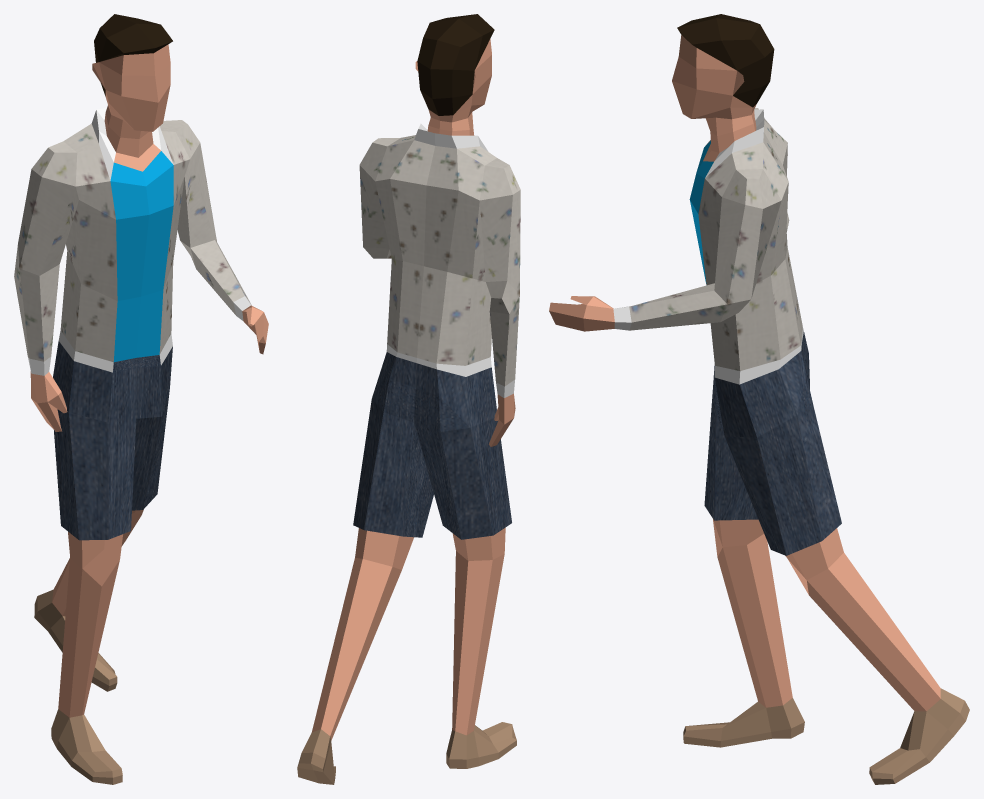
Rendered from SpringManA.008.glb.
3 views of the same model, side by side, from view 1: azimuth 30°, elevation 25°; view 2: azimuth 150°, elevation 25°; view 3: azimuth 270°, elevation 25° (orthographic). The views are drawn at different scales.
Parts seen in each view (by area): view 1: SpringManA.008; view 2: SpringManA.008; view 3: SpringManA.008.
Boxes of the visible parts, bbox=[...] form: SpringManA.008: bbox=[14, 14, 268, 784]; SpringManA.008: bbox=[297, 14, 520, 784]; SpringManA.008: bbox=[549, 14, 969, 784].
Bounding box in the file's own units: 0.4329 × 1.74 × 0.8942.
Materials: 1 (1 with a texture image).
